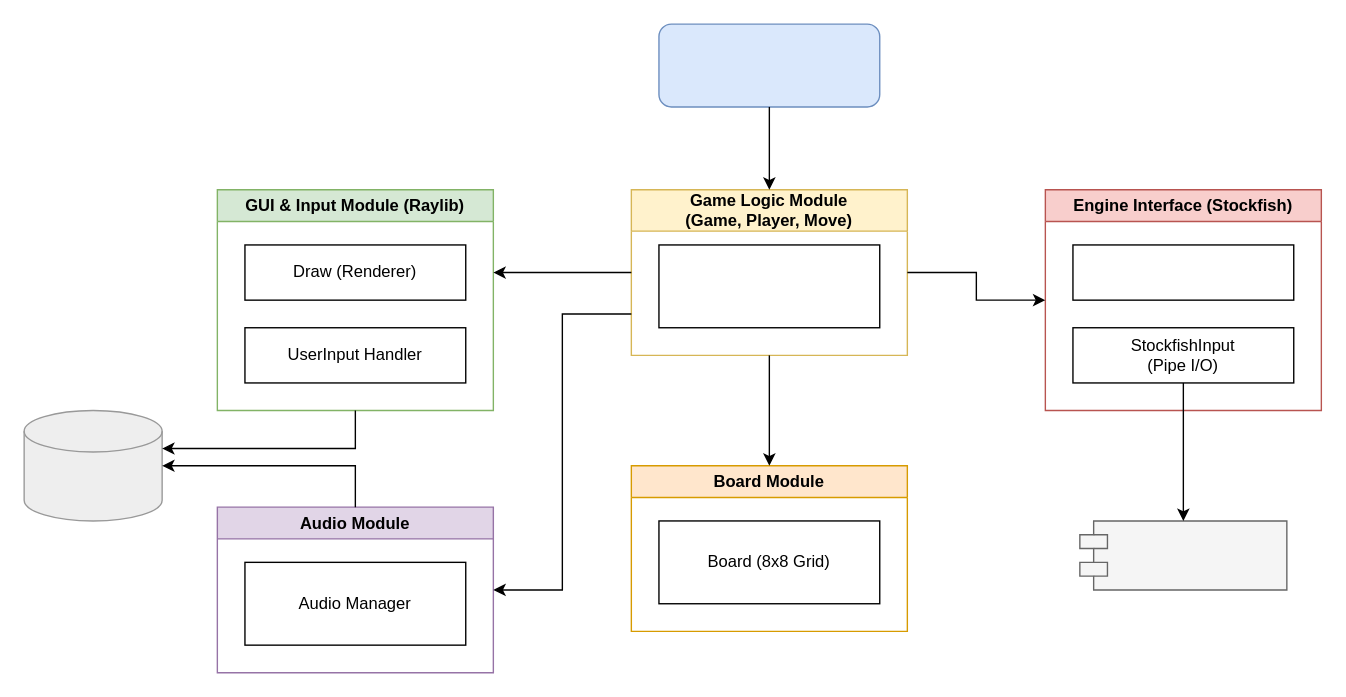
Image size: 1346x697. Some labels were removed from this diagram. Here are the shapes that lost their labels. From the top down, the centre of each, then its label:
At point 769,65: "Main Application".
At point 769,286: "Game State Manager Turn Controller".
At point 1183,272: "Stockfish Controller".
At point 92,465: "Resources (Textures, Sounds)".
At point 1182,555: "Stockfish Binary (External Process)".
